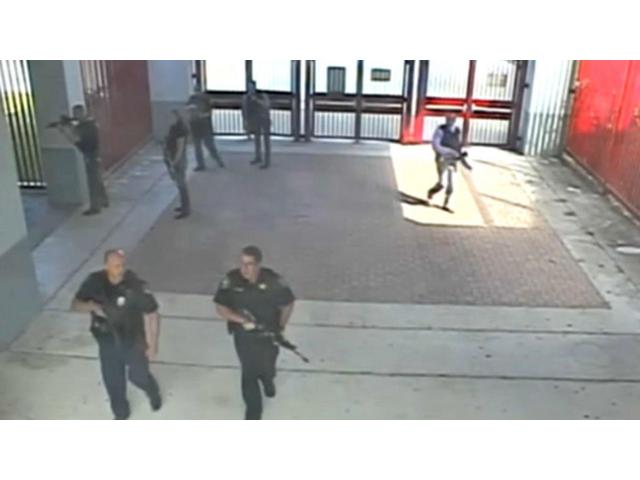rifle: (227, 302, 313, 370), (88, 288, 133, 352), (441, 137, 474, 176), (152, 133, 179, 177), (49, 110, 88, 130)
